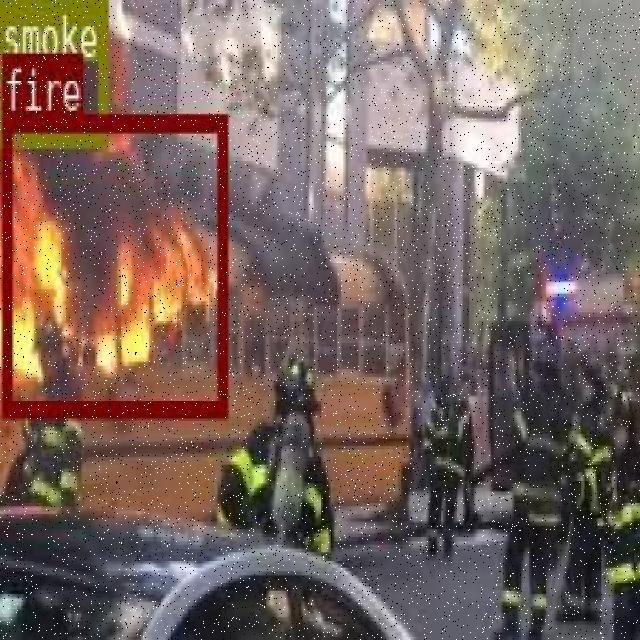Smoke: (0, 35, 104, 107)
